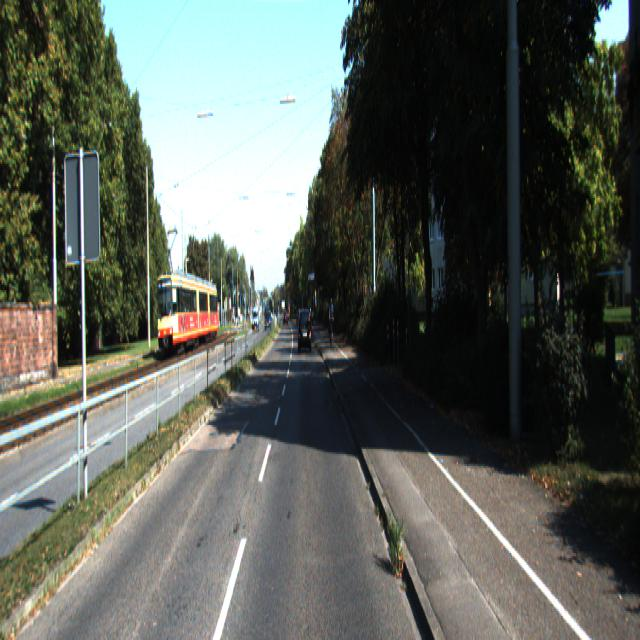Car: (156, 270, 220, 358), (298, 310, 312, 356)
